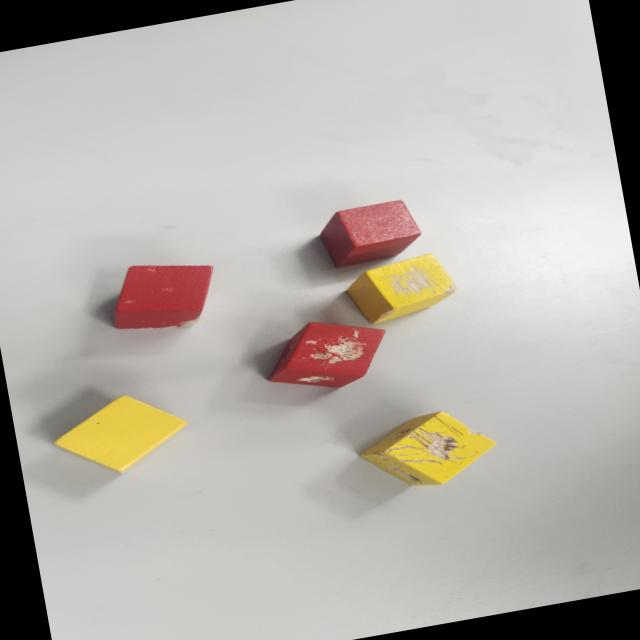broken: (353, 400, 502, 498), (259, 309, 392, 399), (104, 252, 222, 338), (343, 250, 460, 328)
red: (315, 197, 425, 270)
yellow: (46, 385, 194, 484)
